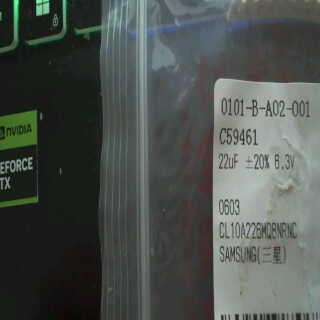22uF: (215, 150, 240, 174)
